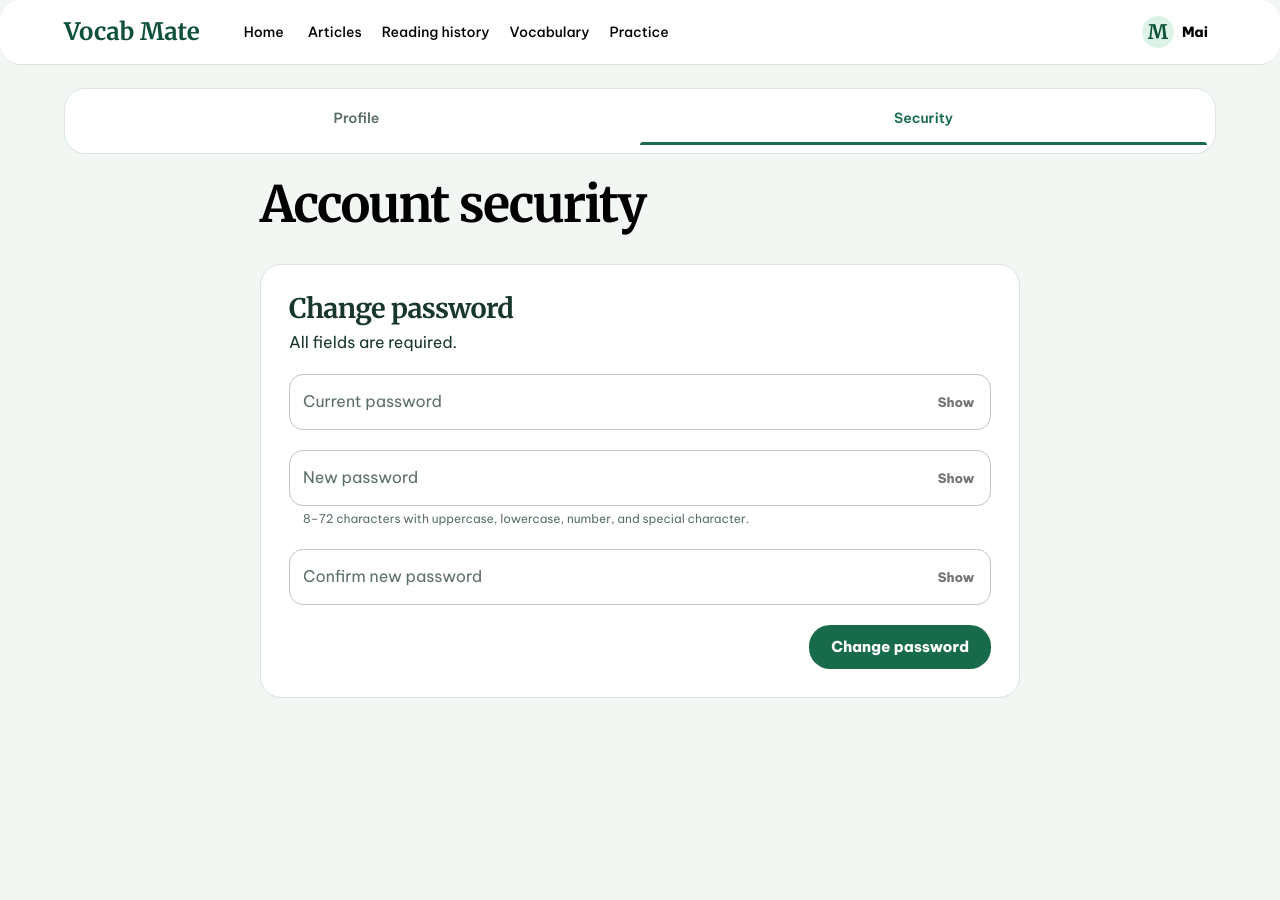
Test case: Security settings UI › shows backend weak-password feedback beside the new password
Type "OldPass@123" into the password field labelled "Current password" at (605, 402), box [289, 374, 921, 430]
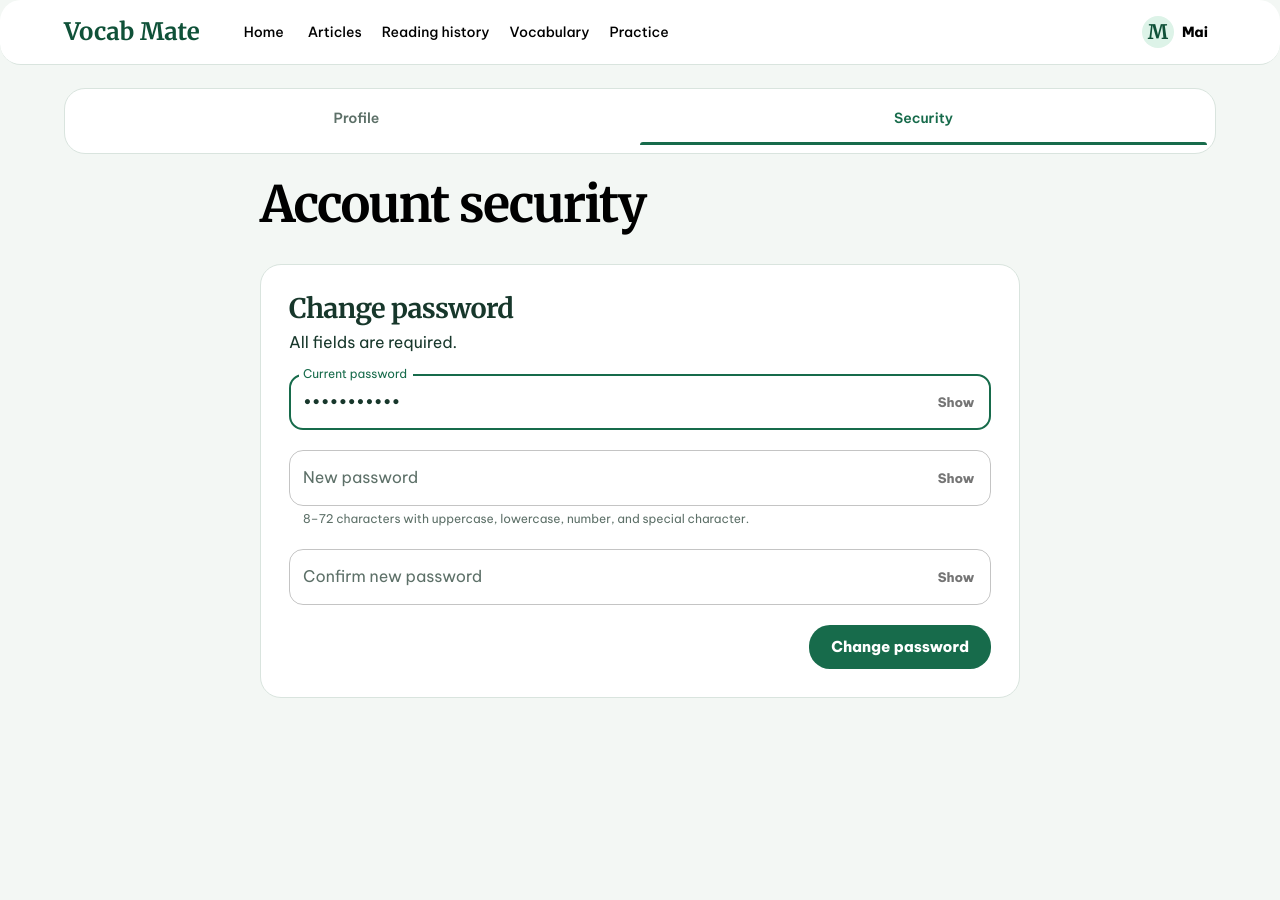
Type "NewPass@456" into the password field labelled "New password" at (605, 478), box [289, 450, 921, 506]
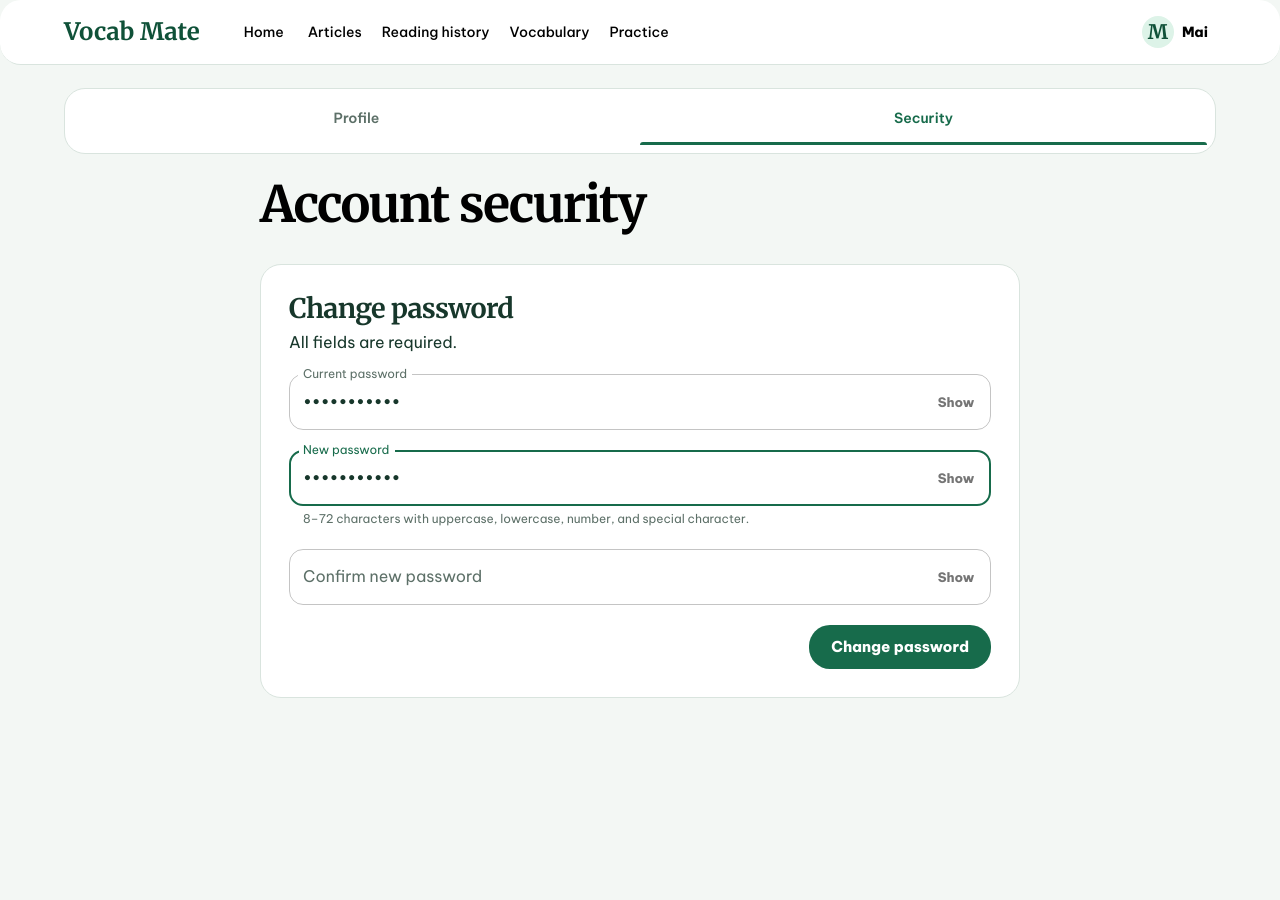
Type "NewPass@456" into the password field labelled "Confirm new password" at (605, 577), box [289, 549, 921, 605]
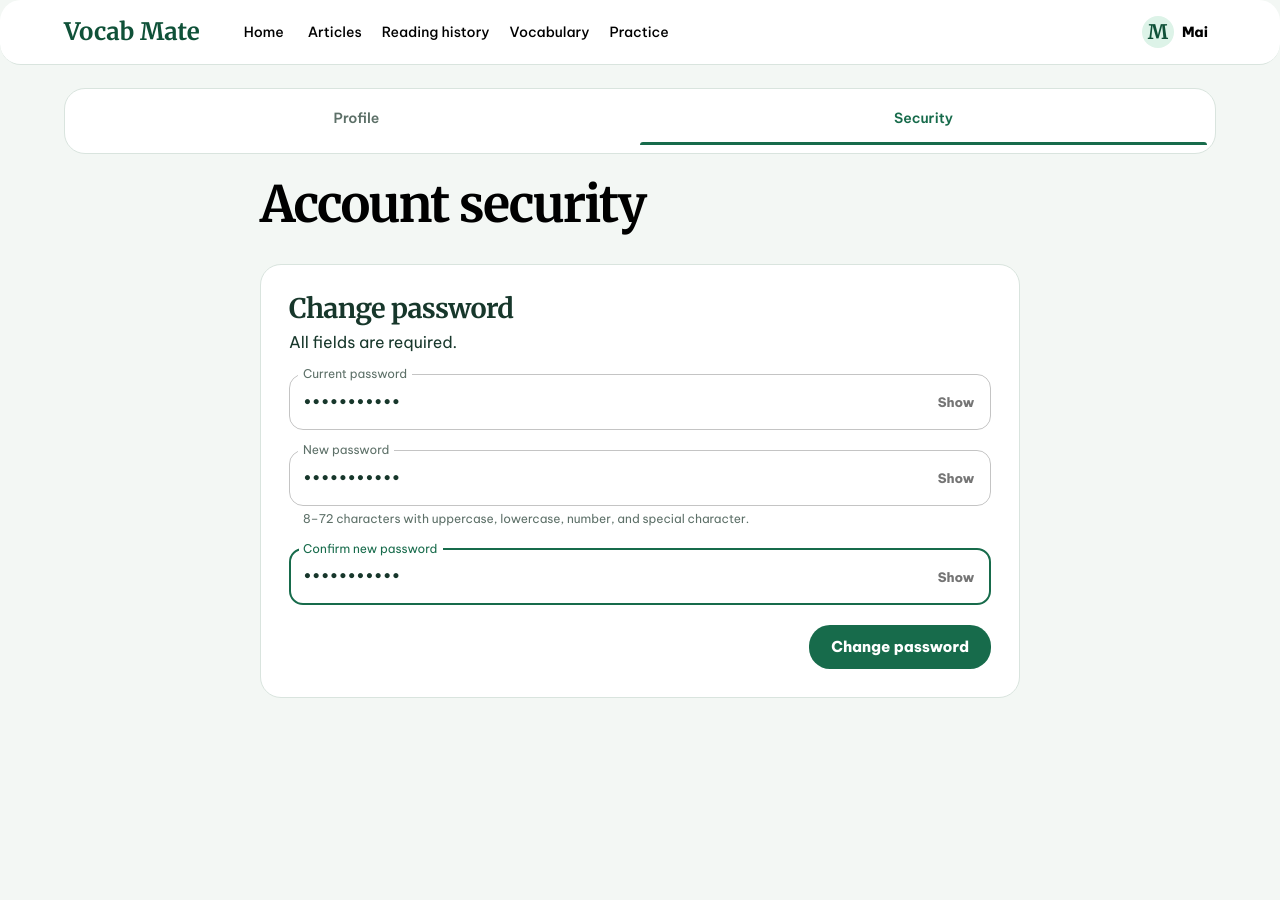
Click the button "Change password" at (900, 647), box [809, 625, 991, 669]
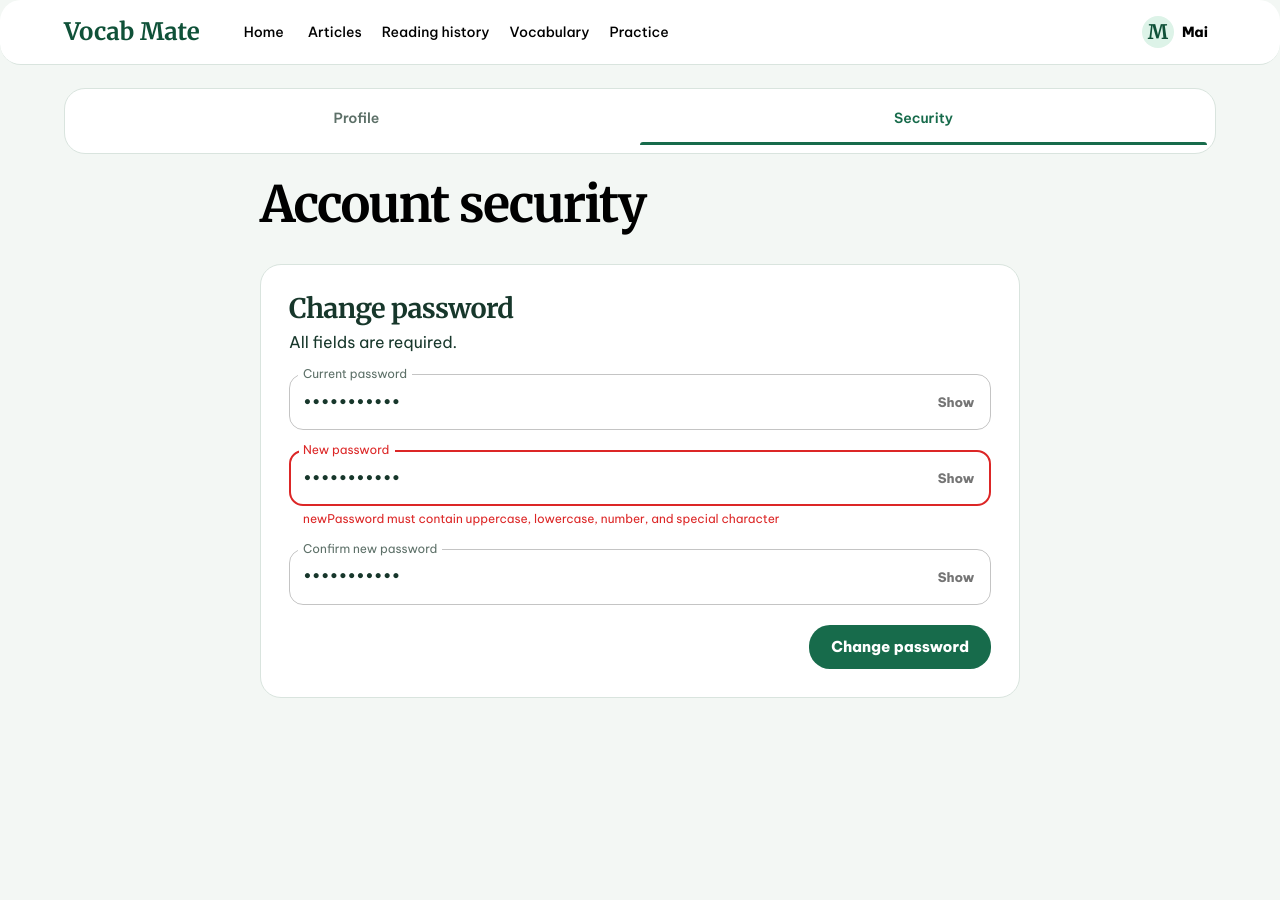
Expected: the text "newPassword must contain uppercase, lowercase, number, and special character" is shown, [303, 511, 780, 526]
